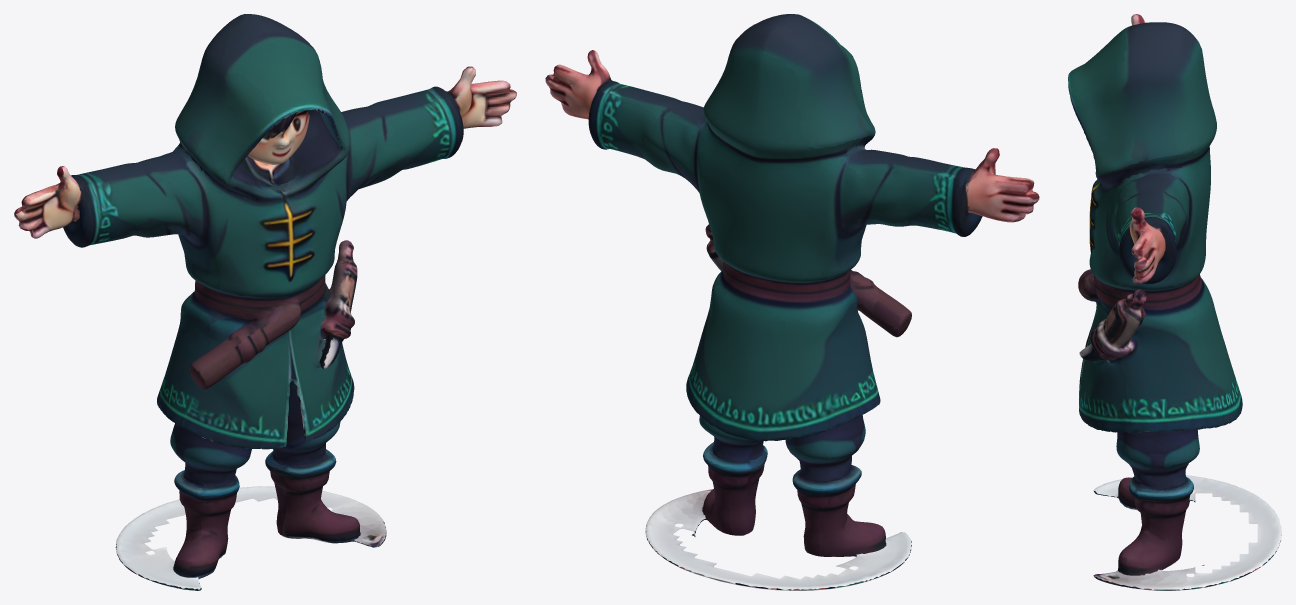
File: quill-voxel-mesh.glb
3 views of the same model, side by side, from view 1: azimuth 30°, elevation 25°; view 2: azimuth 150°, elevation 25°; view 3: azimuth 270°, elevation 25° (orthographic). The views are drawn at different scales.
Visible parts, largest first — view 1: tmp2fhz7gqh.ply; view 2: tmp2fhz7gqh.ply; view 3: tmp2fhz7gqh.ply.
Boxes of the visible parts, box(x1,y1,x2,y2) form: tmp2fhz7gqh.ply: box(14, 14, 516, 590); tmp2fhz7gqh.ply: box(545, 14, 1039, 590); tmp2fhz7gqh.ply: box(1068, 14, 1281, 590).
Bounding box in the file's own units: 0.9846 × 0.9891 × 0.3751.
1 material, 1 textured.
